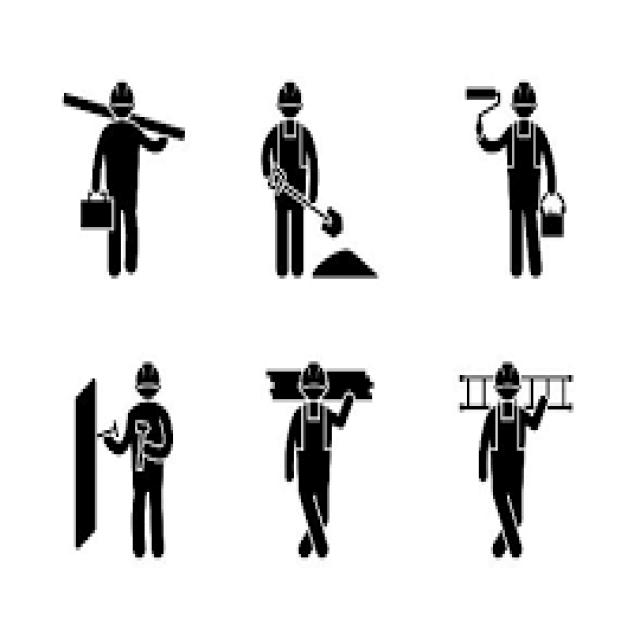Safety-Helmet: (95, 71, 155, 122), (290, 352, 333, 408), (125, 342, 166, 398), (275, 76, 319, 126), (487, 352, 528, 401), (510, 75, 540, 114)
